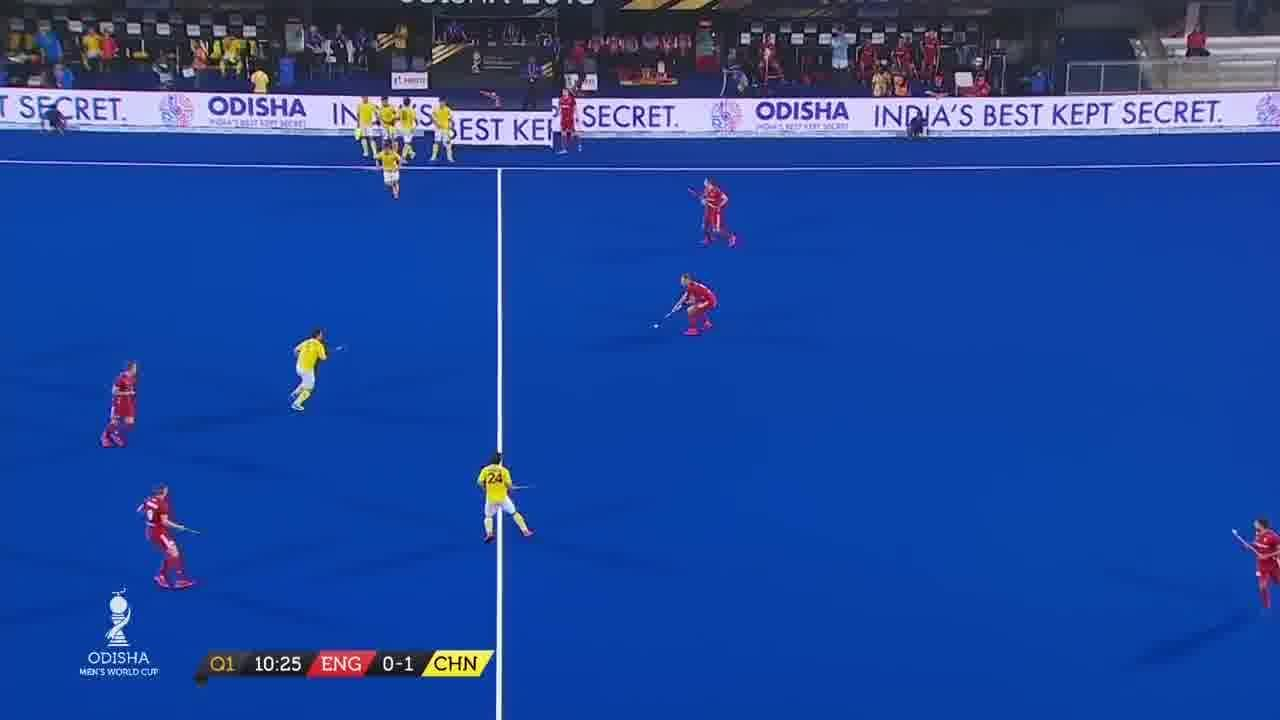ball: (652, 317, 666, 332)
